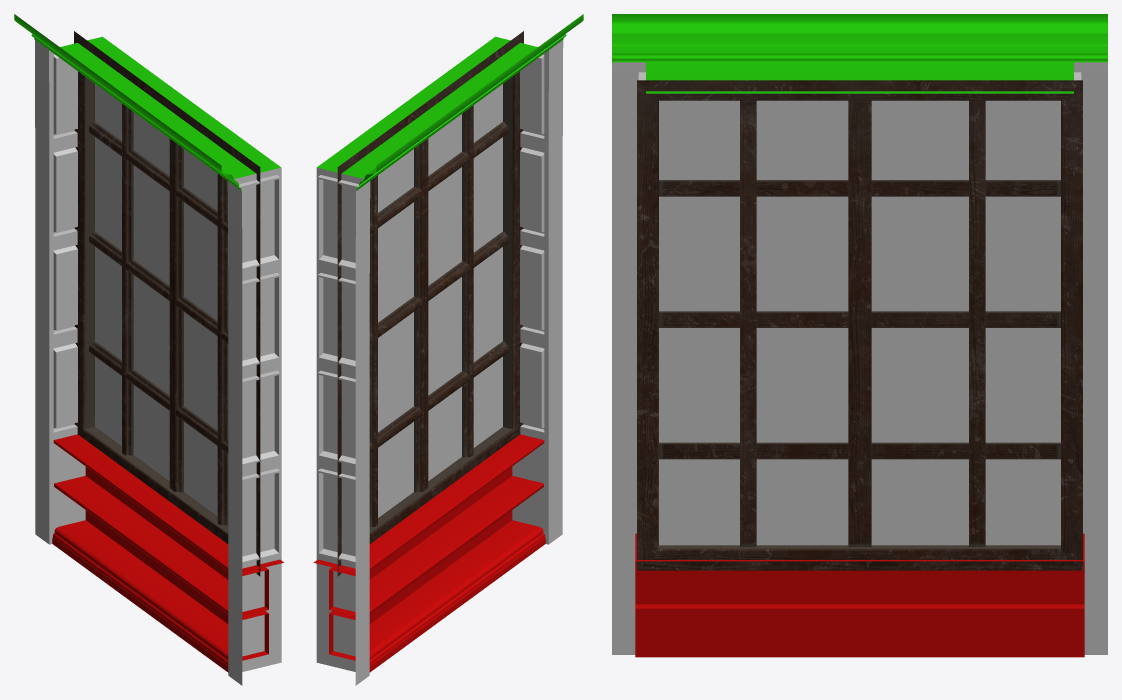
The model's file is SM_window_arch_03.fbx.
The picture shows the model from 3 angles, left to right: view 1: azimuth 30°, elevation 25°; view 2: azimuth 150°, elevation 25°; view 3: azimuth 270°, elevation 25°; orthographic projection. The views are drawn at different scales.
Parts seen in each view (by area): view 1: SM_window_arch_03; view 2: SM_window_arch_03; view 3: SM_window_arch_03.
Boxes of the visible parts, x1,y1,x2,y2 form: SM_window_arch_03: (14,14,283,685); SM_window_arch_03: (313,14,583,685); SM_window_arch_03: (612,14,1107,657).
Bounding box in the file's own units: 67.05 × 325 × 455.
